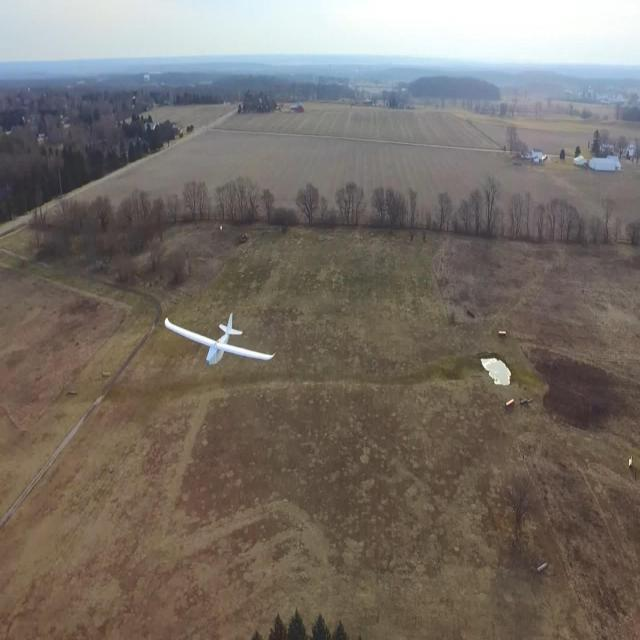iha: (190, 340, 246, 344)
